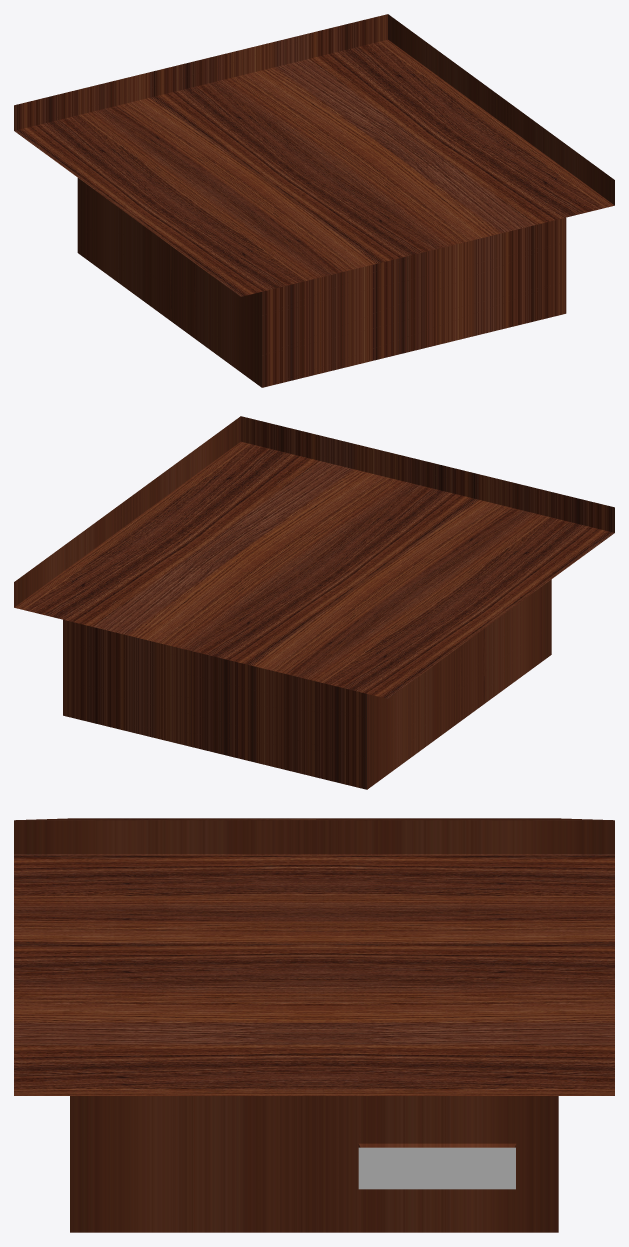
File: duy17.glb
The picture shows the model from 3 angles, top to bottom: view 1: azimuth 30°, elevation 25°; view 2: azimuth 150°, elevation 25°; view 3: azimuth 270°, elevation 25°; orthographic projection. The views are drawn at different scales.
Visible parts, largest first — view 1: House; view 2: House; view 3: House, Plane.001.
Part boxes in pixels (bbox=[...]): House: bbox=[14, 14, 614, 387]; House: bbox=[14, 416, 614, 789]; House: bbox=[14, 818, 614, 1232]; Plane.001: bbox=[358, 1147, 515, 1189].
Size of the model in its own units: 32.55 by 13.49 by 34.18.
Materials: 11 (5 with a texture image).
